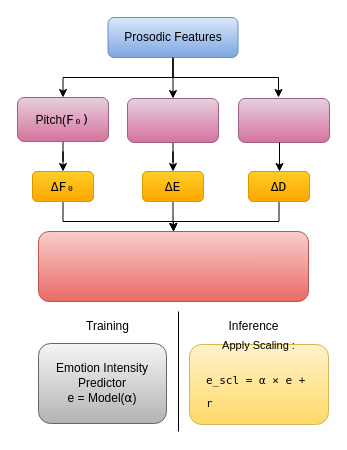
Some shapes in this 347 by 450 pixel diagram are drawn without their labels. The shapes that lost their labels are listed below. From the top down, each one's centre as x and y in pixels, then its label:
the point at 172,120: Energy(E)
the point at 284,120: Duration
the point at 173,266: Normalize and Compute Intensity Scalar α α = f(∆F₀, ∆E, ∆D)
